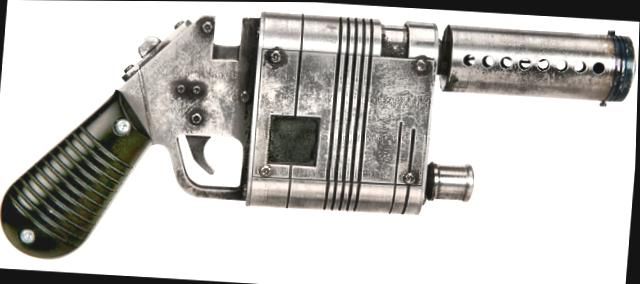pistol: (8, 2, 633, 284)
